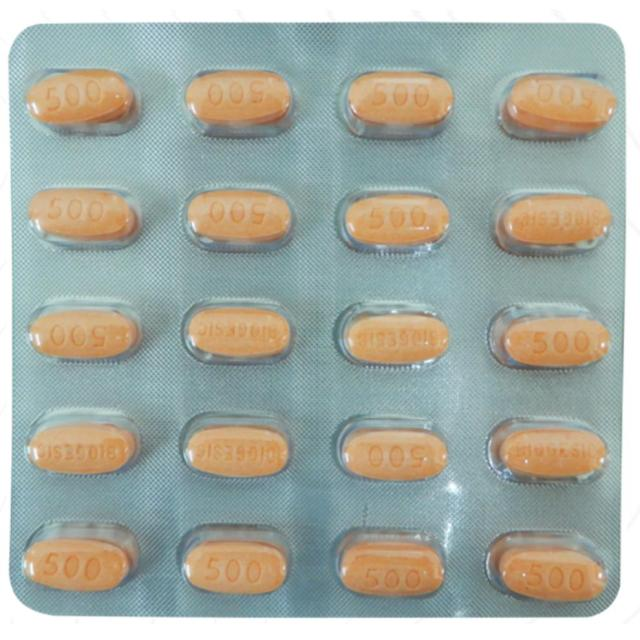blister: (5, 16, 627, 627)
